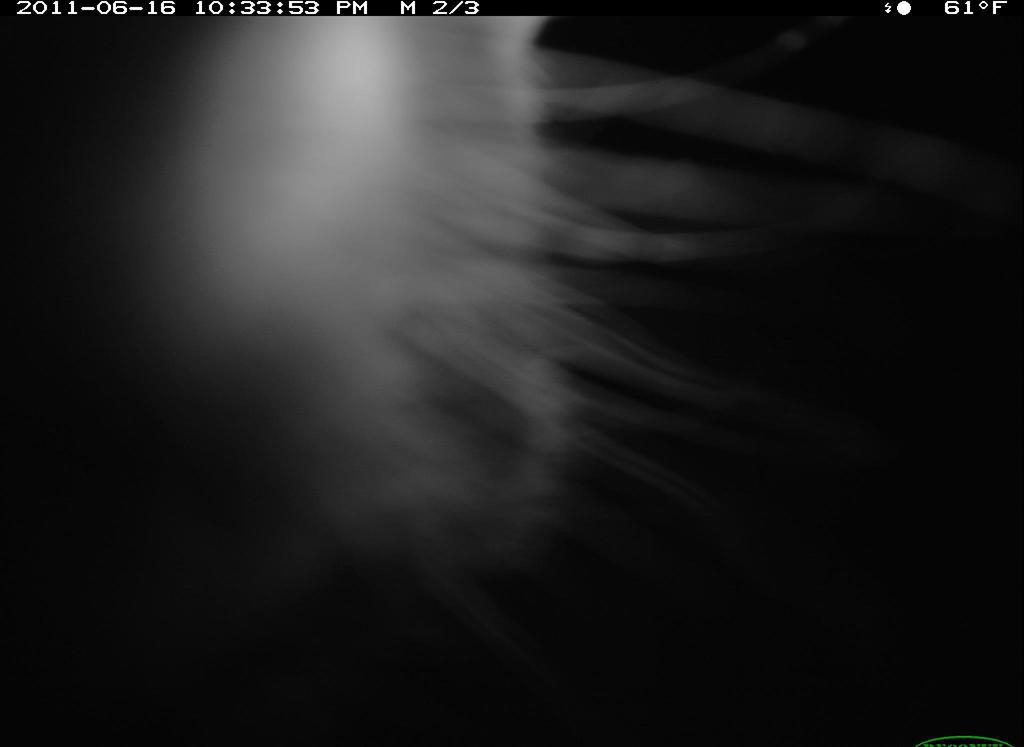raccoon: (2, 16, 955, 733)
